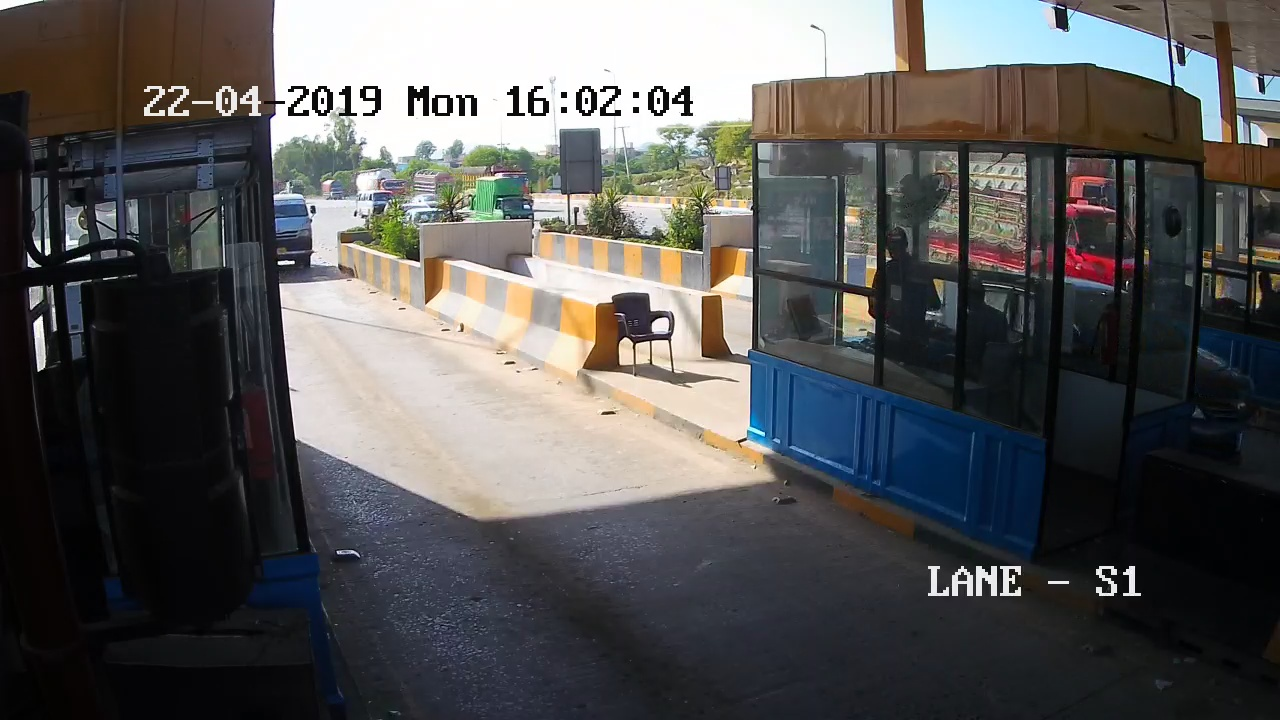car: (273, 191, 336, 289)
